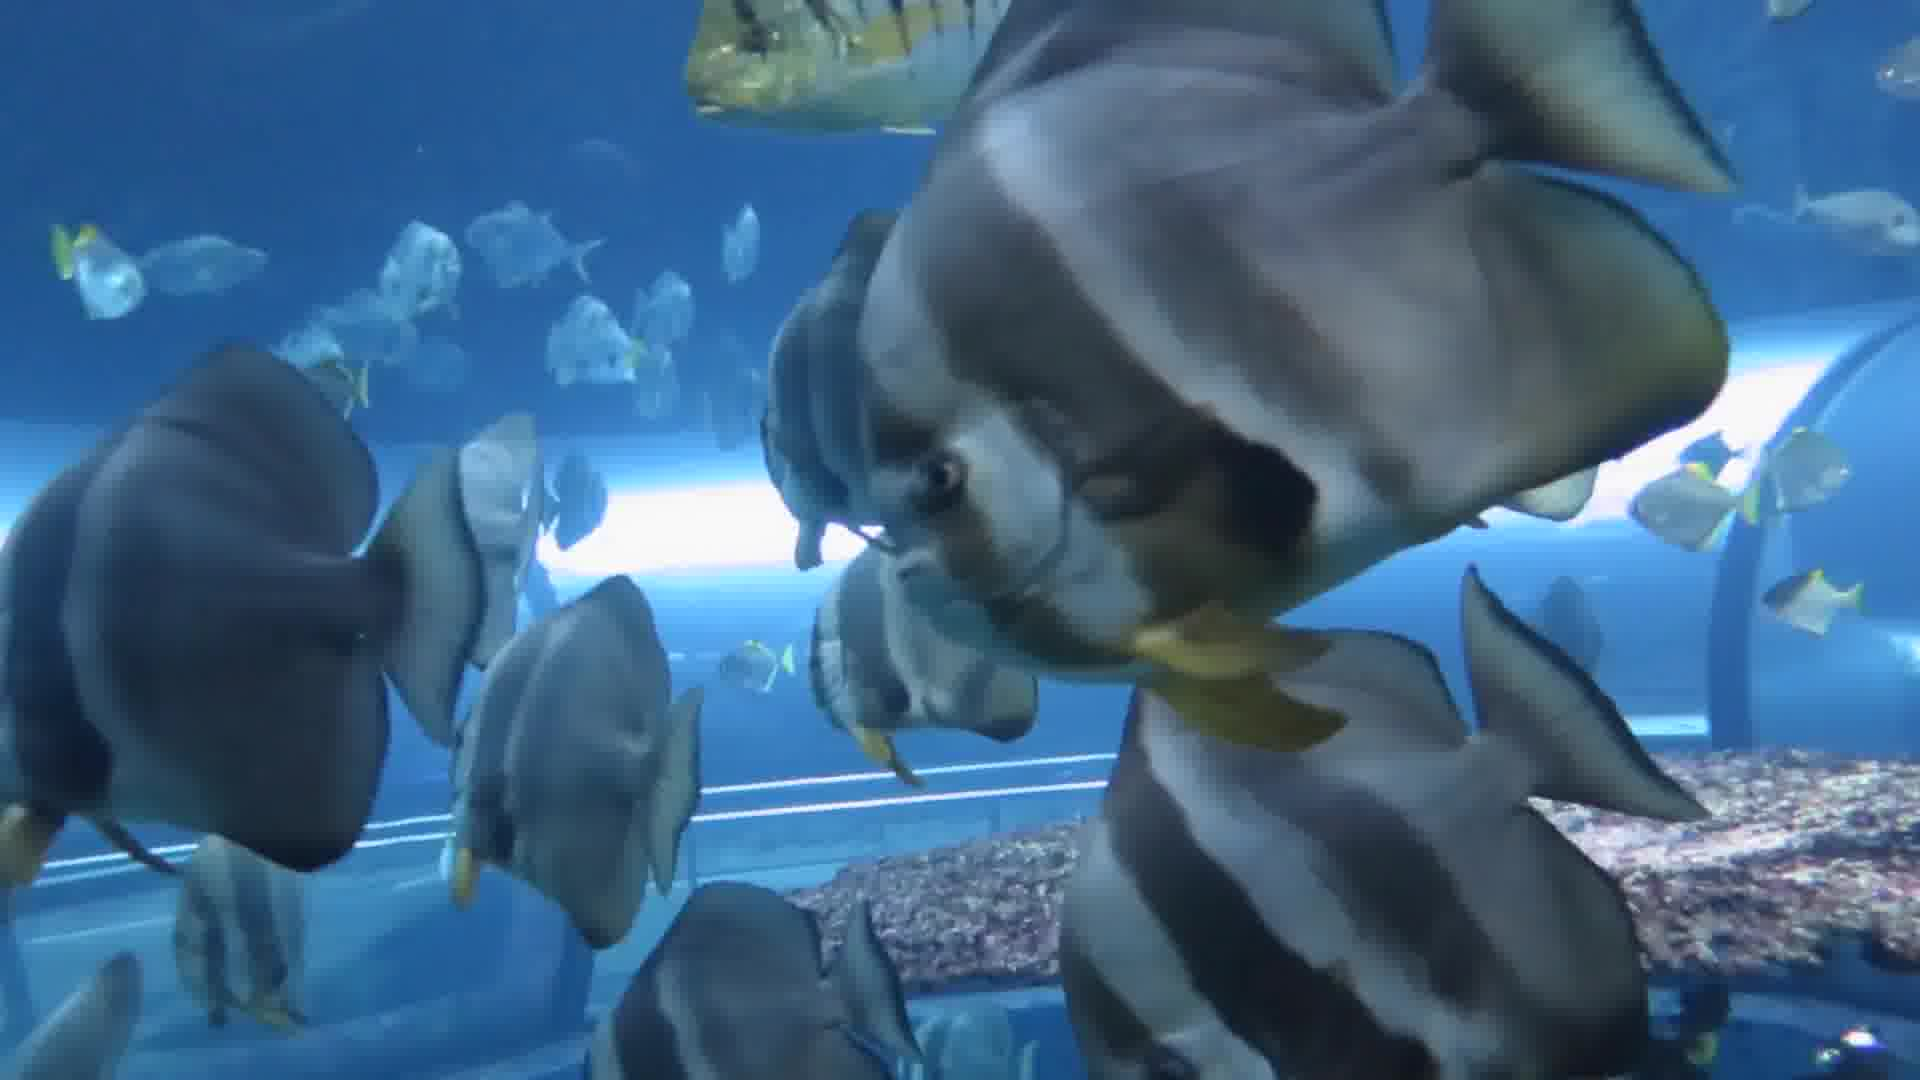Platax teira: (833, 1, 1791, 651), (919, 615, 1768, 1080), (1, 339, 518, 939)
